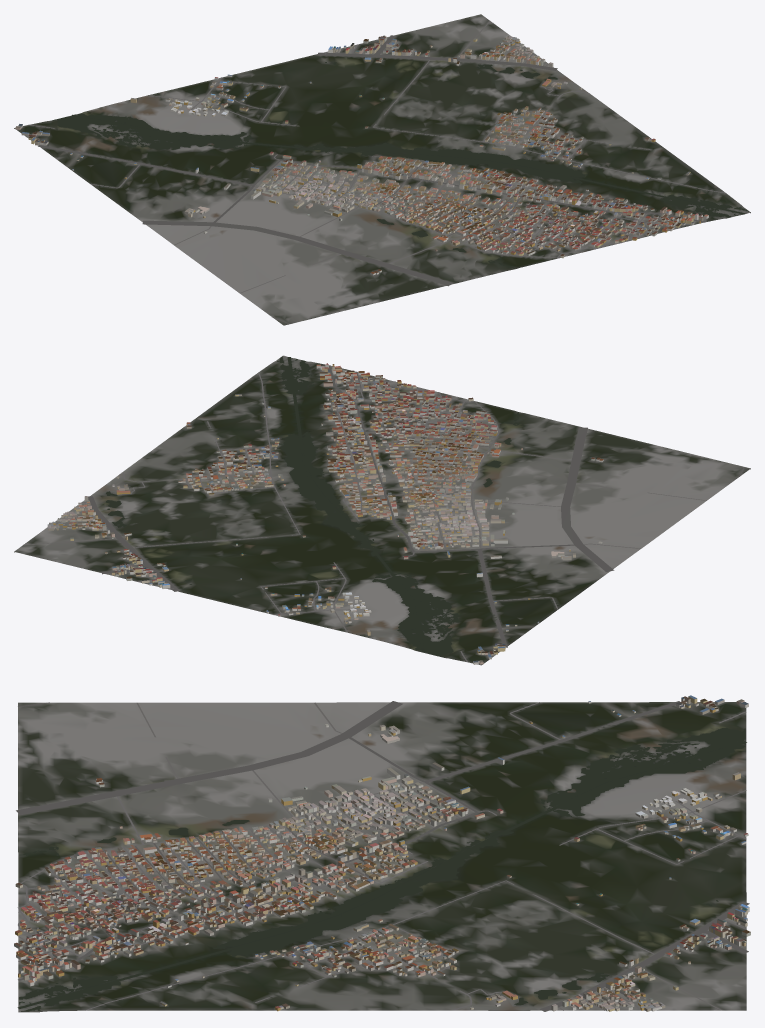
3 views of the same model, one above another, from view 1: azimuth 30°, elevation 25°; view 2: azimuth 150°, elevation 25°; view 3: azimuth 270°, elevation 25° (orthographic). The views are drawn at different scales.
Parts seen in each view (by area): view 1: ground, buildings, water, roads; view 2: ground, buildings, water, roads; view 3: ground, buildings, water, roads.
Boxes of the visible parts, x1,y1,x2,y2 form: ground: [14, 14, 750, 325]; buildings: [15, 35, 708, 275]; water: [52, 62, 748, 268]; roads: [28, 21, 725, 324]; ground: [14, 355, 750, 665]; buildings: [47, 363, 603, 664]; water: [106, 356, 519, 657]; roads: [23, 365, 744, 662]; ground: [18, 702, 746, 1012]; buildings: [14, 695, 750, 1011]; water: [17, 727, 746, 1011]; roads: [16, 701, 749, 1011].
Size of the model in its own units: 1419 by 24.07 by 1419.
